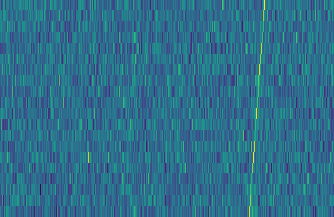signal: (246, 0, 271, 217)
